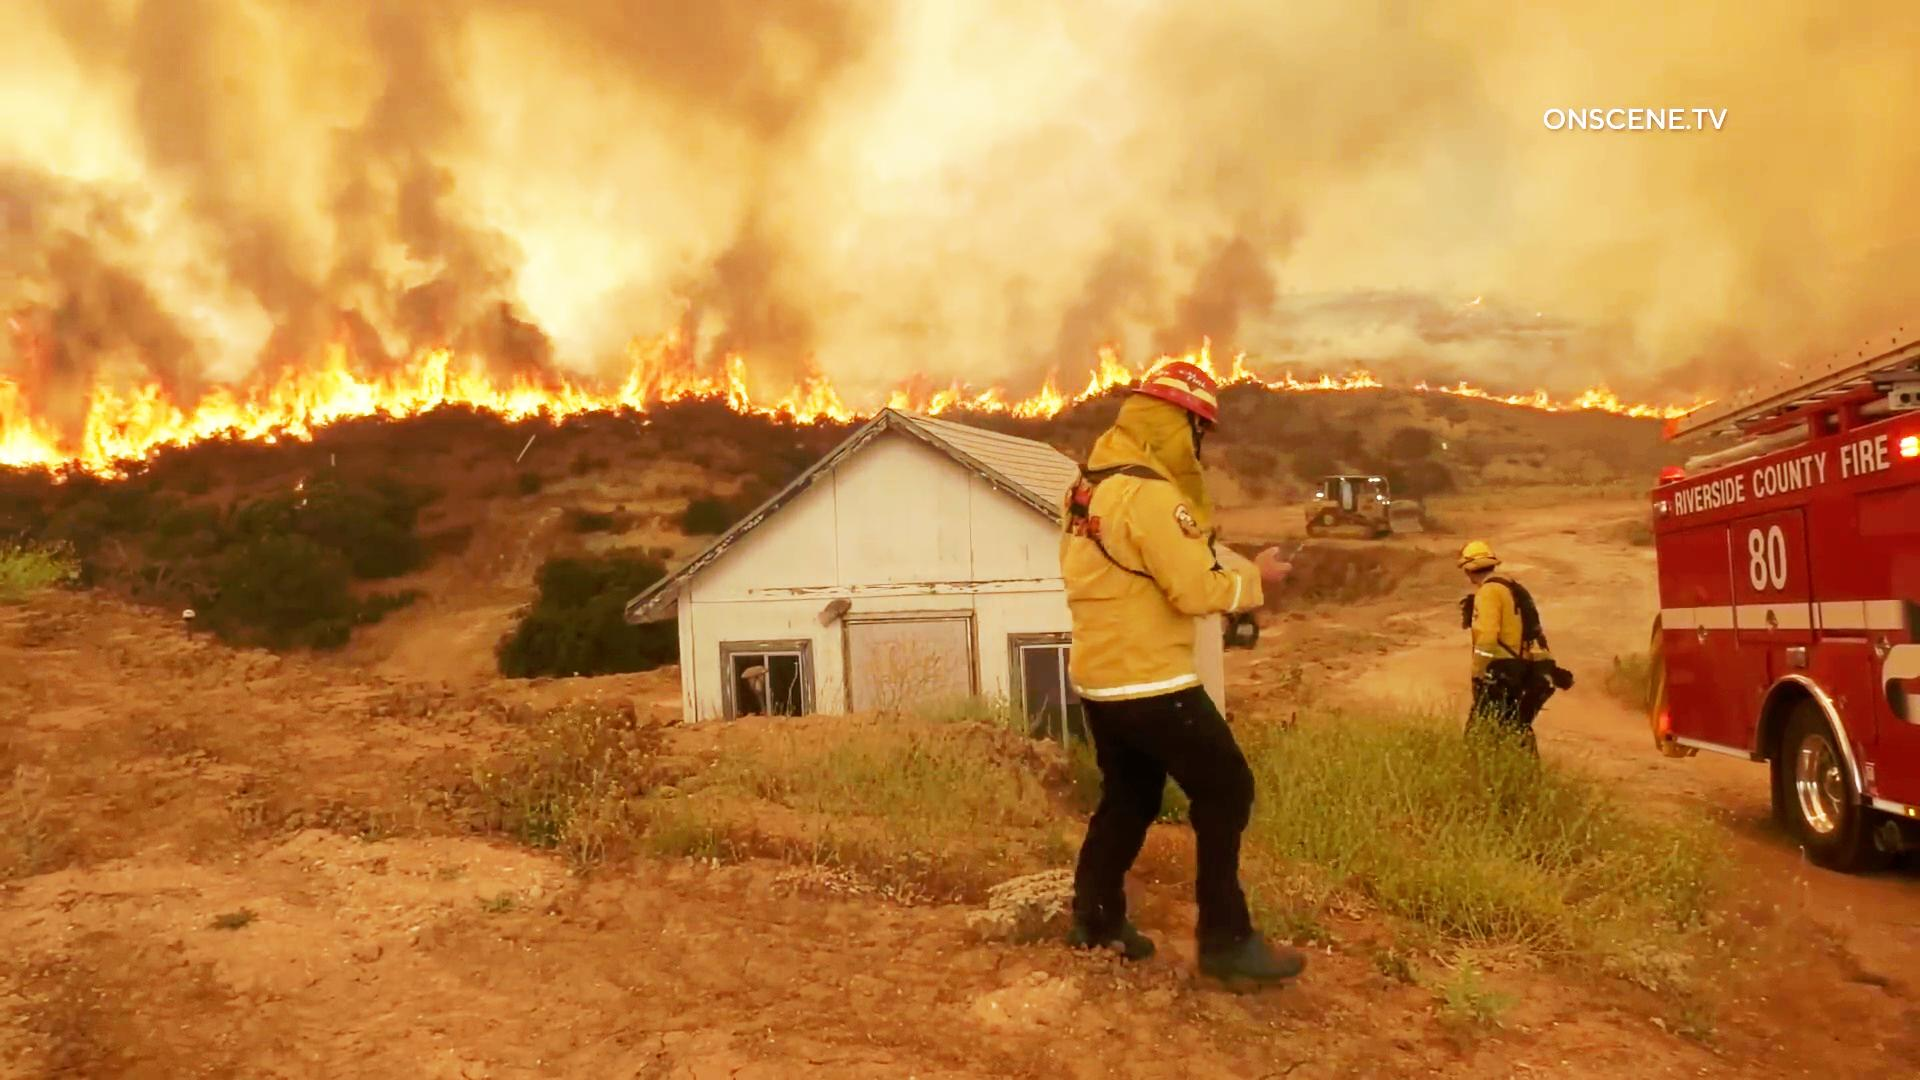fire: (299, 332, 787, 429), (0, 340, 335, 479)
smoke: (585, 3, 843, 327), (356, 13, 543, 348), (12, 156, 158, 356)
